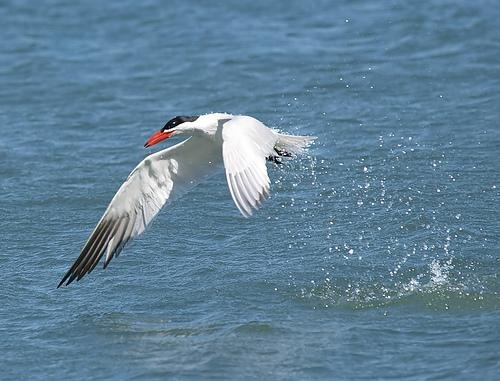bird: (48, 110, 320, 289)
